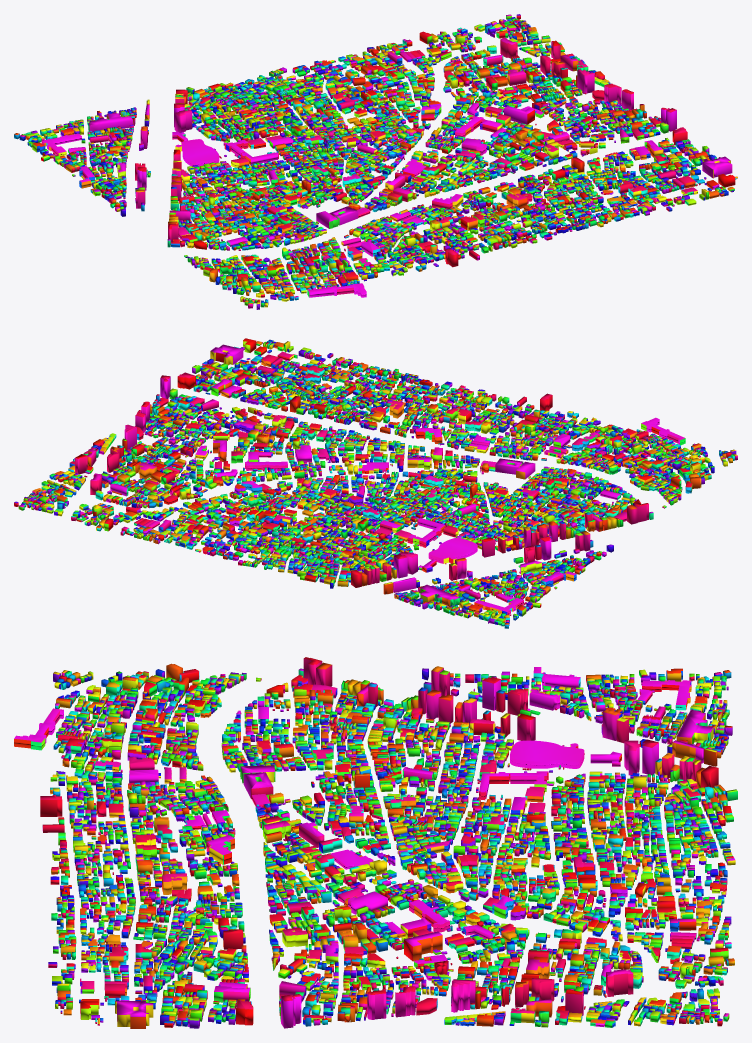
The picture shows the model from 3 angles, top to bottom: view 1: azimuth 30°, elevation 25°; view 2: azimuth 150°, elevation 25°; view 3: azimuth 270°, elevation 25°; orthographic projection. The views are drawn at different scales.
Visible parts, largest first — view 1: BLD_f79e8104-d396-4569-884a-43b07a2c86d2; view 2: BLD_f79e8104-d396-4569-884a-43b07a2c86d2; view 3: BLD_f79e8104-d396-4569-884a-43b07a2c86d2.
Part boxes in pixels (<box>): BLD_f79e8104-d396-4569-884a-43b07a2c86d2: <box>14,14,737,309</box>; BLD_f79e8104-d396-4569-884a-43b07a2c86d2: <box>14,338,737,628</box>; BLD_f79e8104-d396-4569-884a-43b07a2c86d2: <box>14,657,737,1028</box>.
Size of the model in its own units: 1154 by 44.57 by 997.
